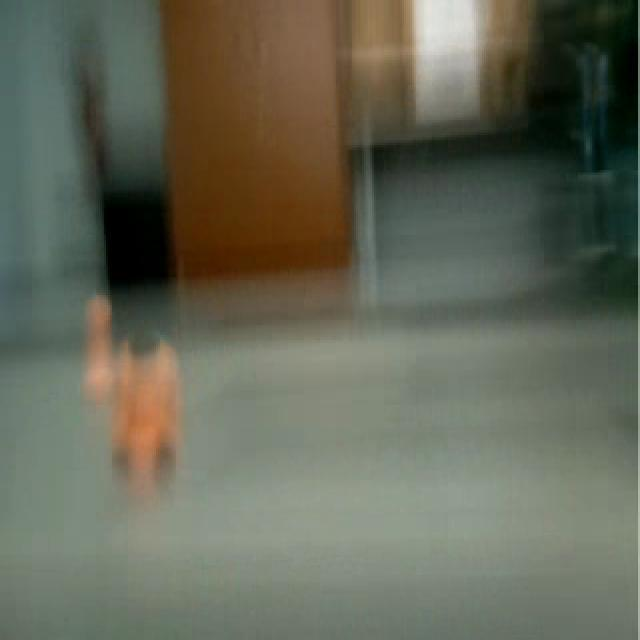oball: (106, 400, 202, 500), (76, 290, 120, 352)
